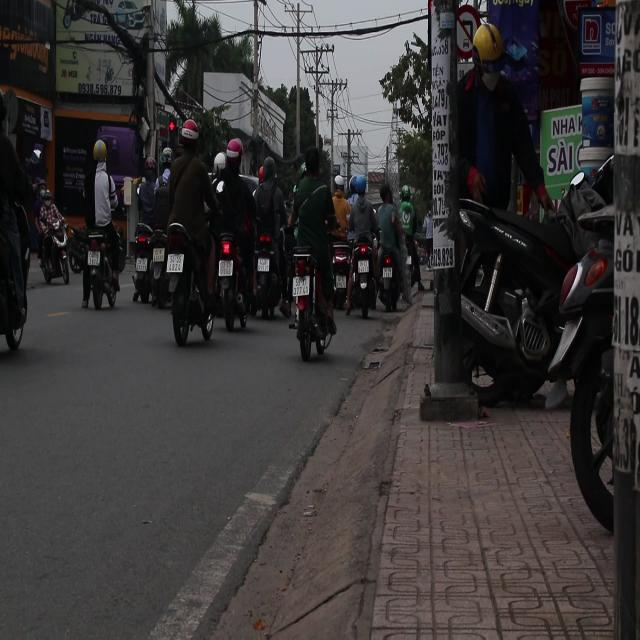motorbike: (164, 226, 213, 348), (288, 249, 336, 361), (210, 224, 250, 333), (345, 233, 383, 319), (132, 224, 170, 306), (85, 228, 117, 314), (252, 230, 276, 326), (42, 217, 72, 292)
